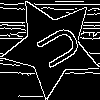U: (26, 21, 84, 76)
